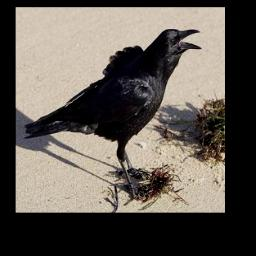Crow: (23, 27, 202, 203)
